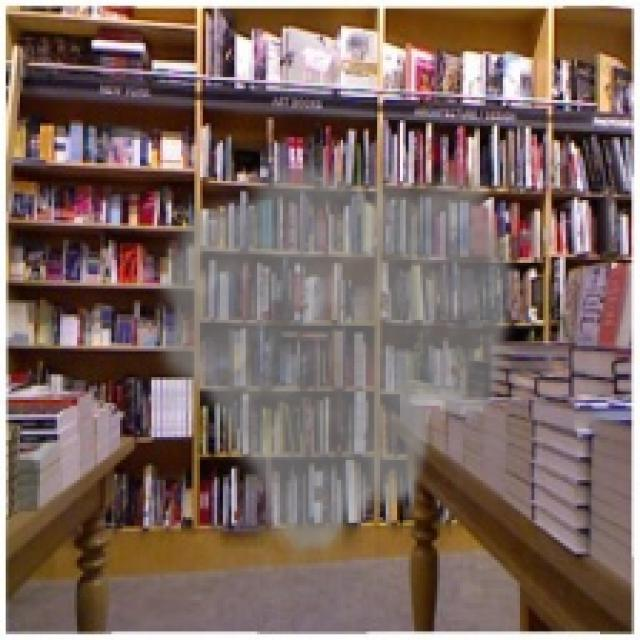smoke: (146, 154, 523, 569)
